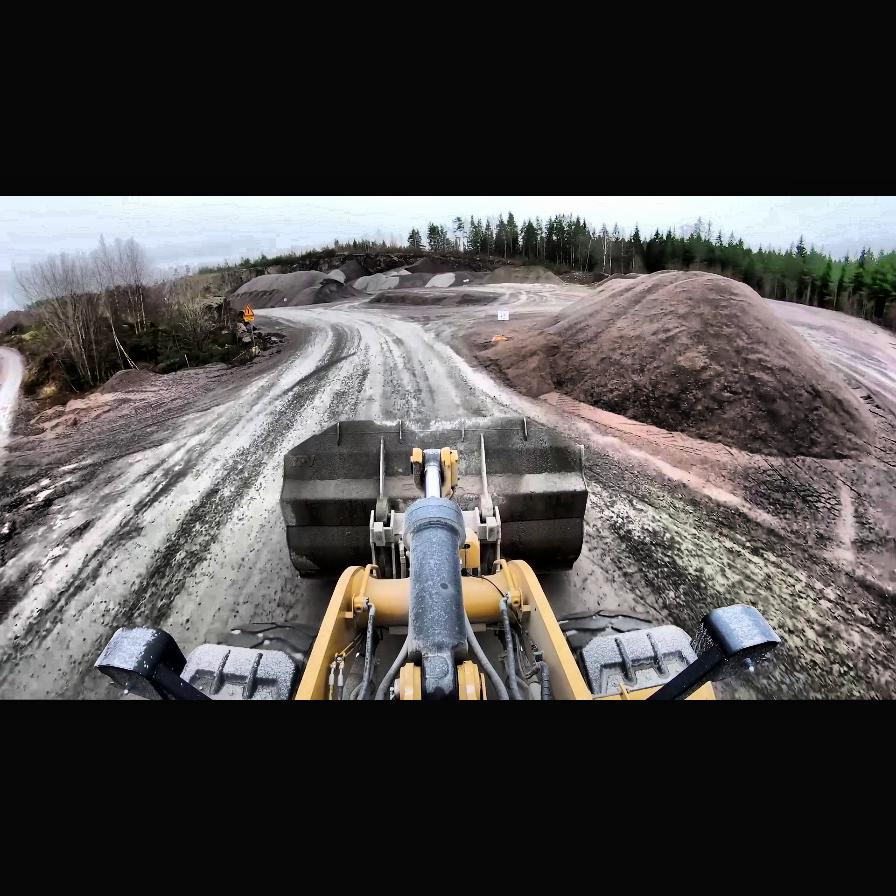anchor: (412, 446, 458, 499)
pile of gravel: (537, 268, 887, 464), (228, 270, 374, 310), (351, 257, 492, 293), (480, 264, 558, 286), (326, 258, 376, 286)
